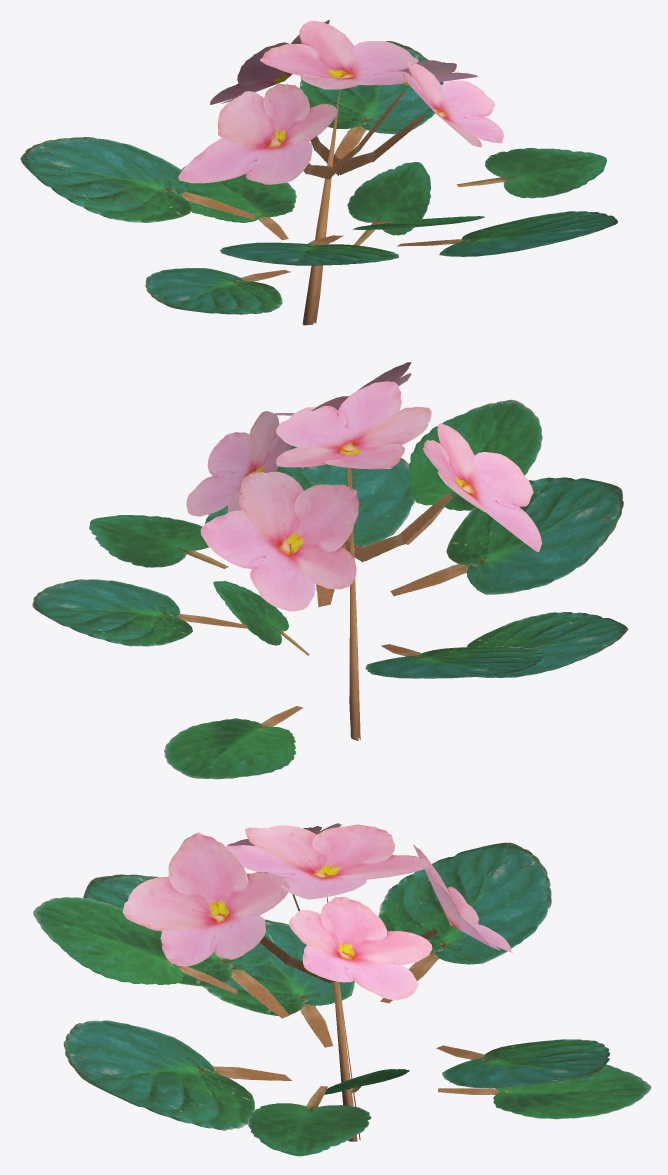
File: Saintpaulia3B.fbx
The picture shows the model from 3 angles, top to bottom: view 1: azimuth 30°, elevation 25°; view 2: azimuth 150°, elevation 25°; view 3: azimuth 270°, elevation 25°; orthographic projection. The views are drawn at different scales.
Parts seen in each view (by area): view 1: Saintpaulia3B_LOD2; view 2: Saintpaulia3B_LOD2; view 3: Saintpaulia3B_LOD2.
Part boxes in pixels (box(x1,y1,x2,y2)): Saintpaulia3B_LOD2: box(20, 20, 617, 325); Saintpaulia3B_LOD2: box(32, 362, 628, 779); Saintpaulia3B_LOD2: box(33, 823, 651, 1156).
Size of the model in its own units: 63.78 by 34.27 by 60.24.
